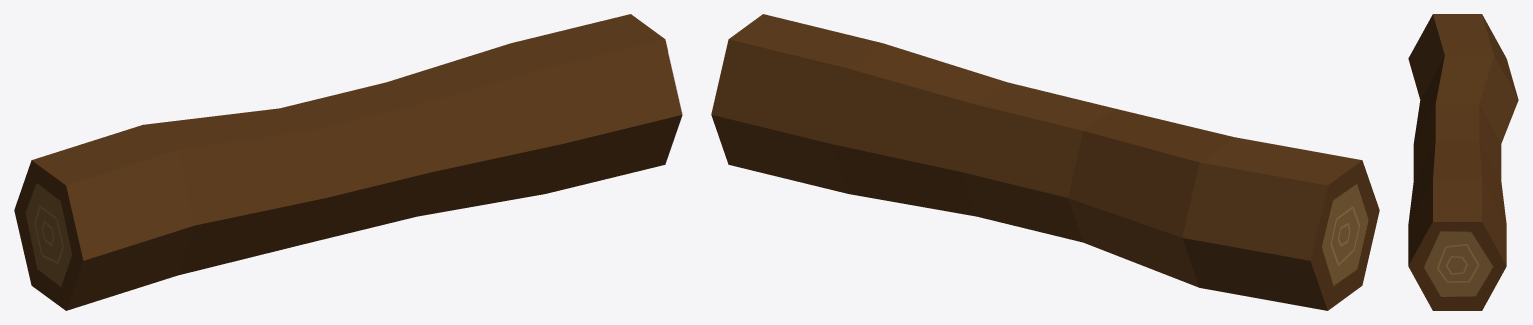
File: log.fbx
The picture shows the model from 3 angles, left to right: view 1: azimuth 30°, elevation 25°; view 2: azimuth 150°, elevation 25°; view 3: azimuth 270°, elevation 25°; orthographic projection. The views are drawn at different scales.
Parts seen in each view (by area): view 1: Cylinder; view 2: Cylinder; view 3: Cylinder.
Boxes of the visible parts, <box> form: Cylinder: <box>14,14,682,310</box>; Cylinder: <box>711,14,1379,310</box>; Cylinder: <box>1408,14,1518,310</box>.
Size of the model in its own units: 500 by 112 by 100.
